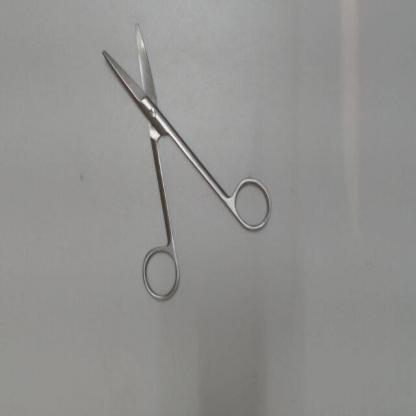Curved Mayo Scissors: (92, 14, 277, 308)
